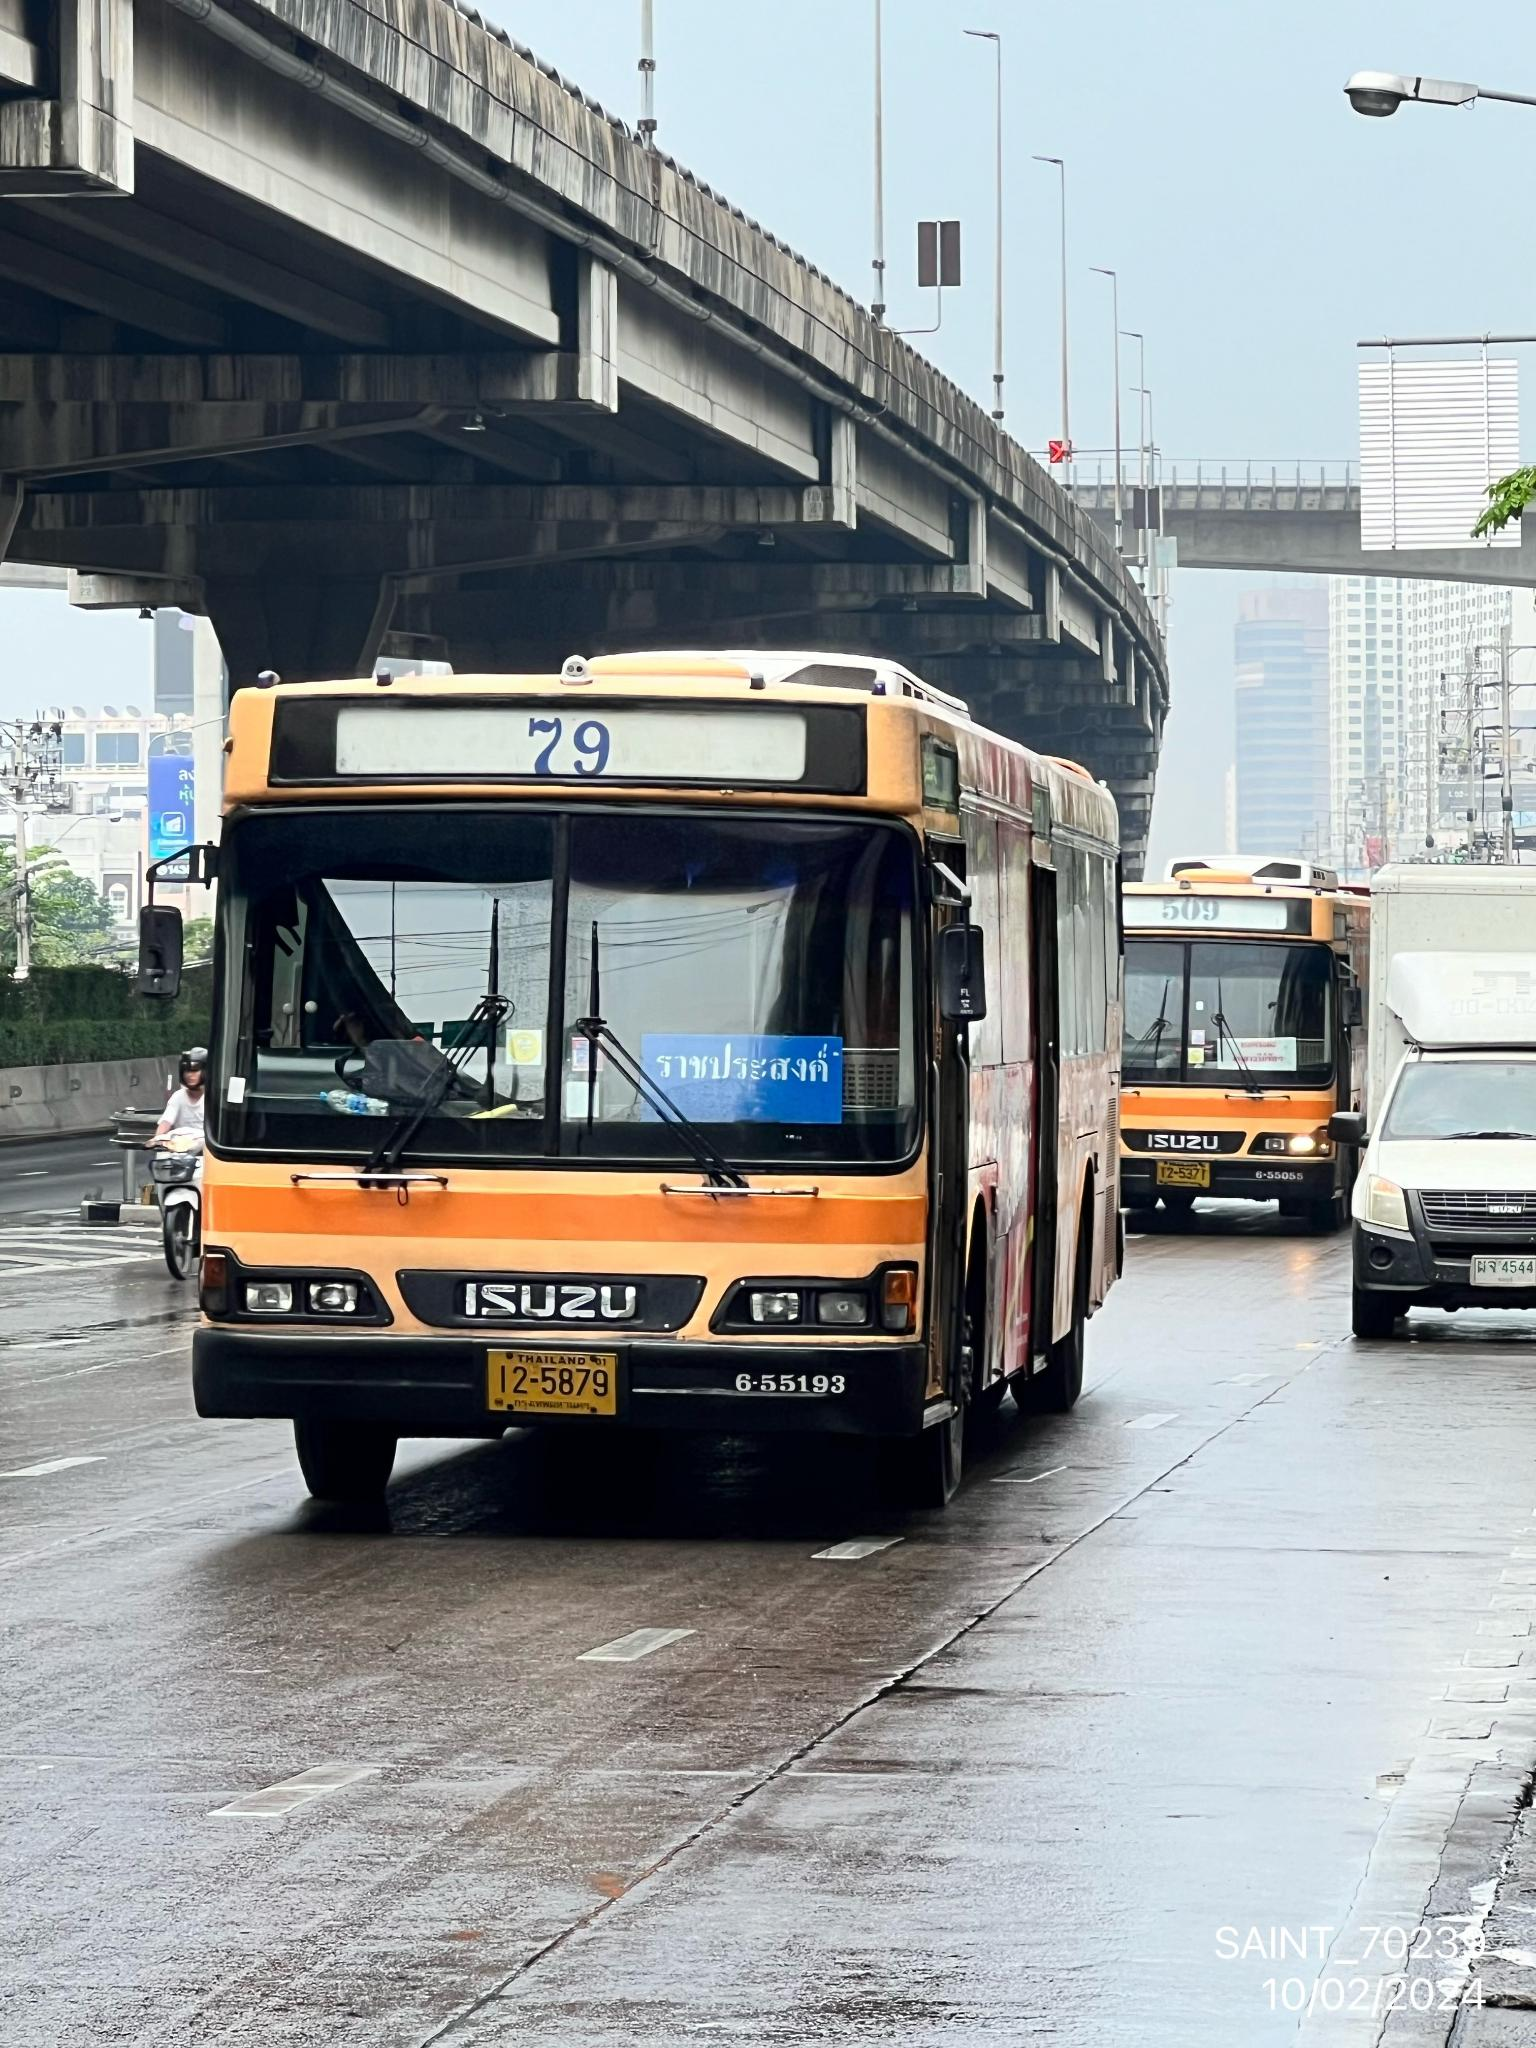BMTA-bus: (187, 653, 1126, 1532), (1120, 864, 1373, 1234)
Bus Line Number: (494, 700, 639, 793), (1154, 893, 1221, 922)
Bus Side Number: (726, 1359, 855, 1400), (1252, 1163, 1312, 1185)
Destination Sign: (629, 1029, 845, 1118), (1225, 1034, 1304, 1077)
